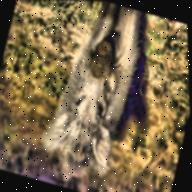boar: (29, 1, 167, 192)
